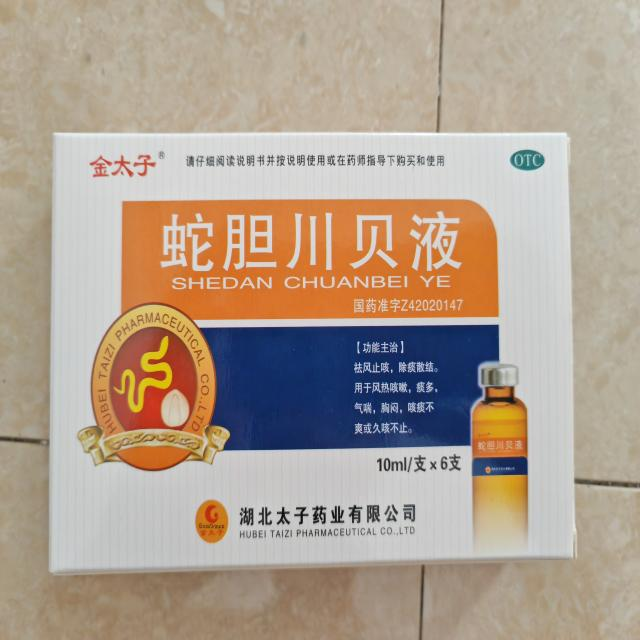box: (43, 114, 589, 584)
